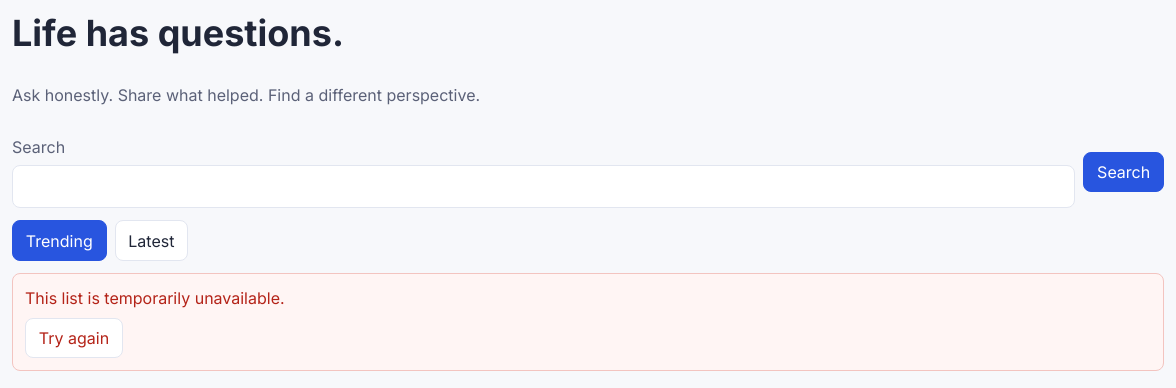
Test: recovers feed reads without falsely claiming the list is empty
The image size is (1176, 388).
Expected: the message shows "This list is temporarily unavailable.", top-left (25, 288), bottom-right (285, 308)
Expected: the text "No threads yet." is not shown
Click the button "Try again" at (74, 338), box top-left (25, 318), bottom-right (123, 358)
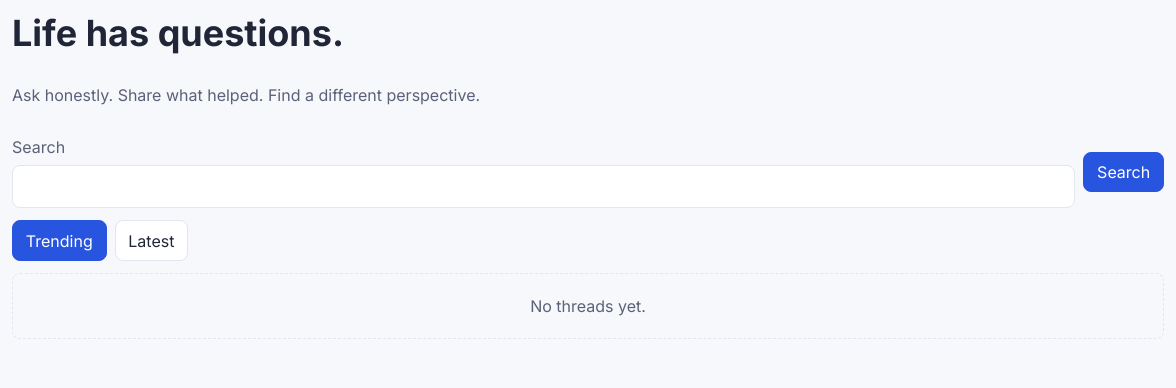
Now the text "No threads yet." is shown, box top-left (12, 273), bottom-right (1164, 339)
Now the message "This list is temporarily unavailable. Try again" is gone
